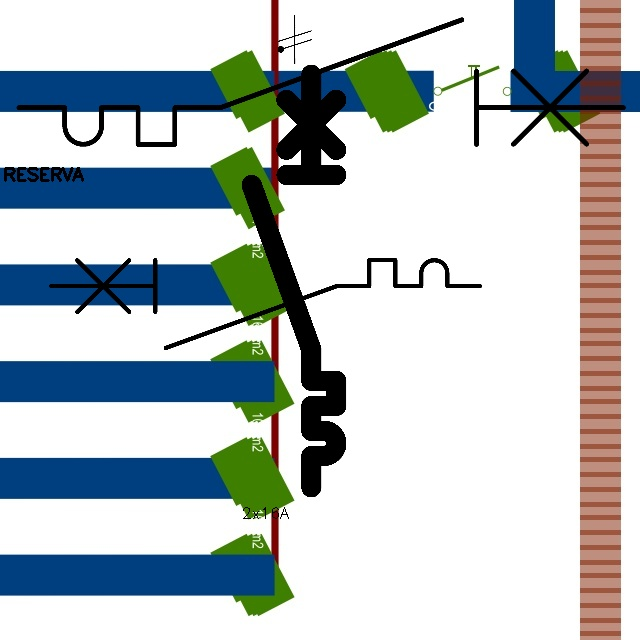interruptor_termomagnetico: (3, 4, 639, 160), (40, 249, 491, 359), (241, 64, 347, 498)
